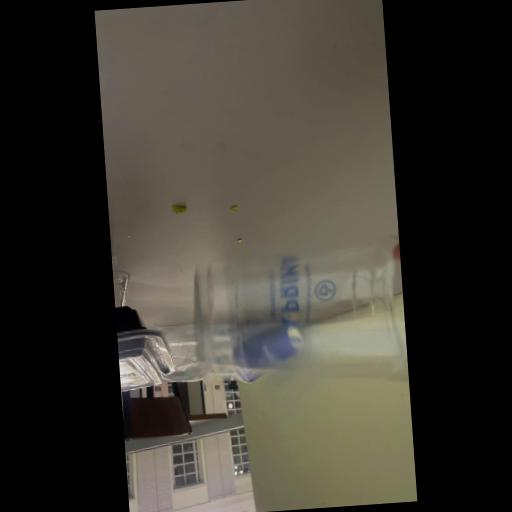lp_plastic_cup: (187, 238, 410, 400)
